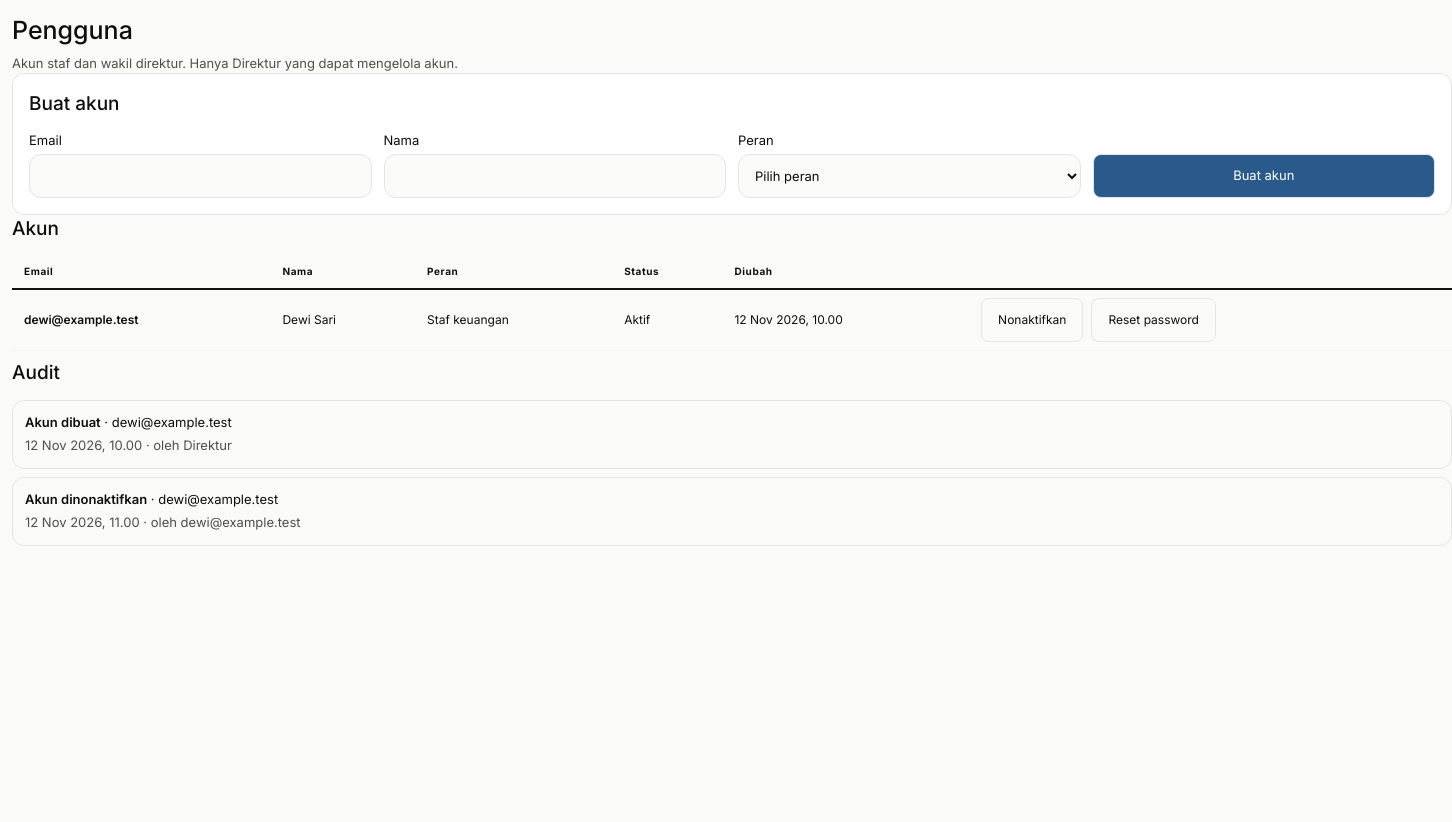
Test: user management › shows the duplicate email message as an alert and no password
This screenshot has width=1452, height=822.
Check: the column heading "dewi@example.test" is shown, box [12,289,270,350]
In the field labelled "Email": (200, 176) [29,154,372,198], type "baru@example.test"
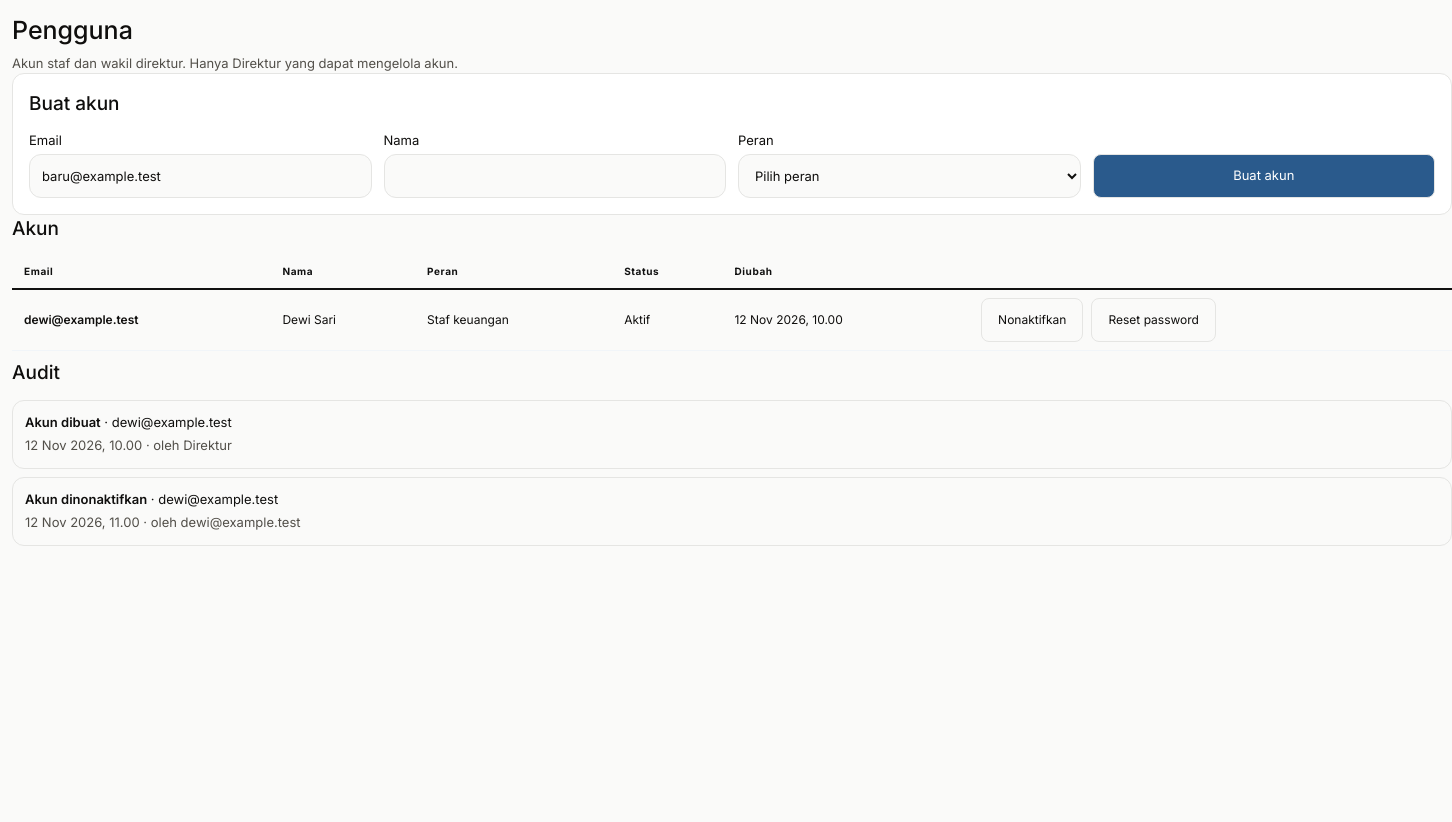
In the field labelled "Nama": (555, 176) [384,154,726,198], type "Baru"
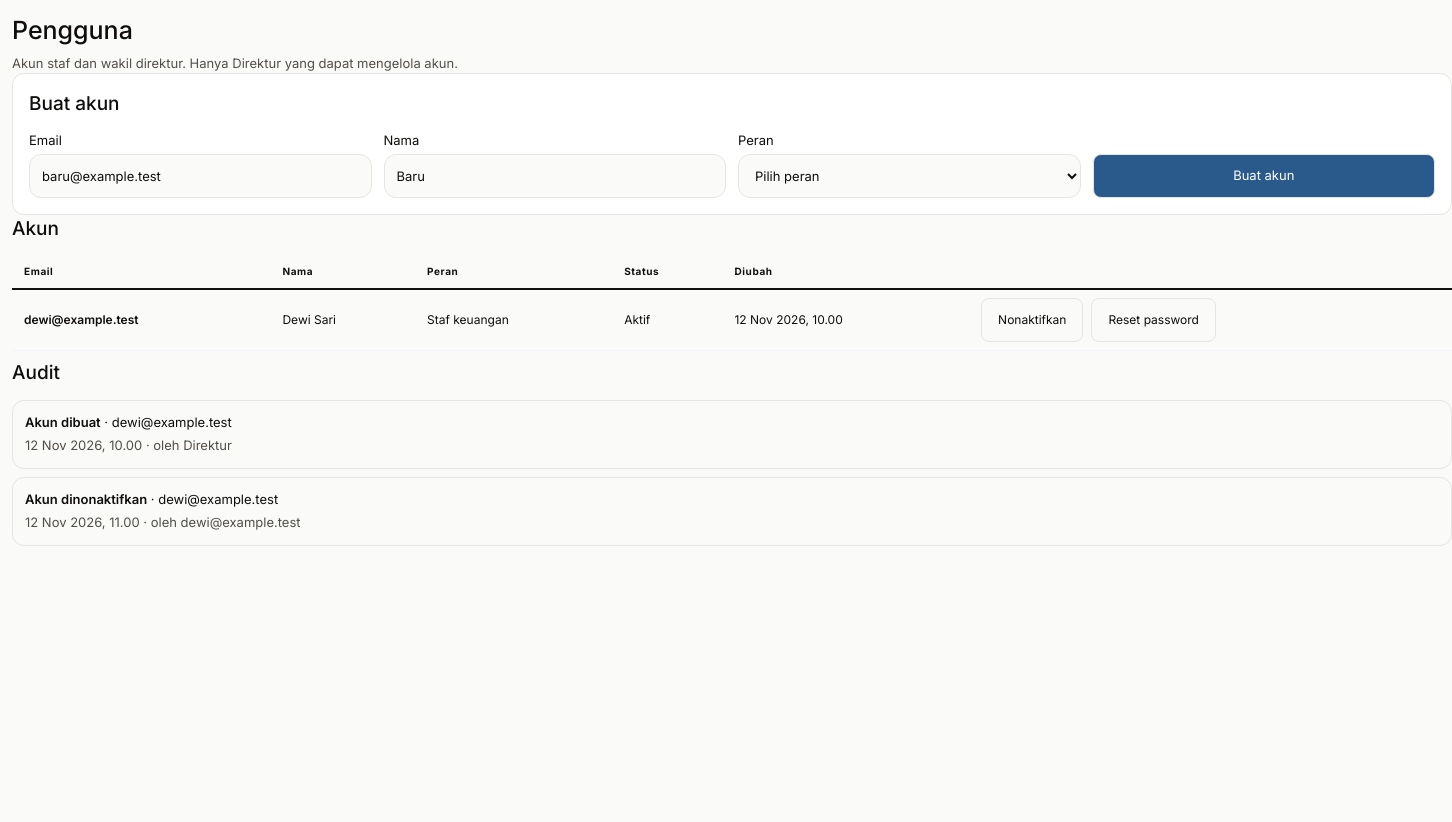
Select "Staf SDM" in the dropdown labelled "Peran": (909, 176) [738,154,1080,198]
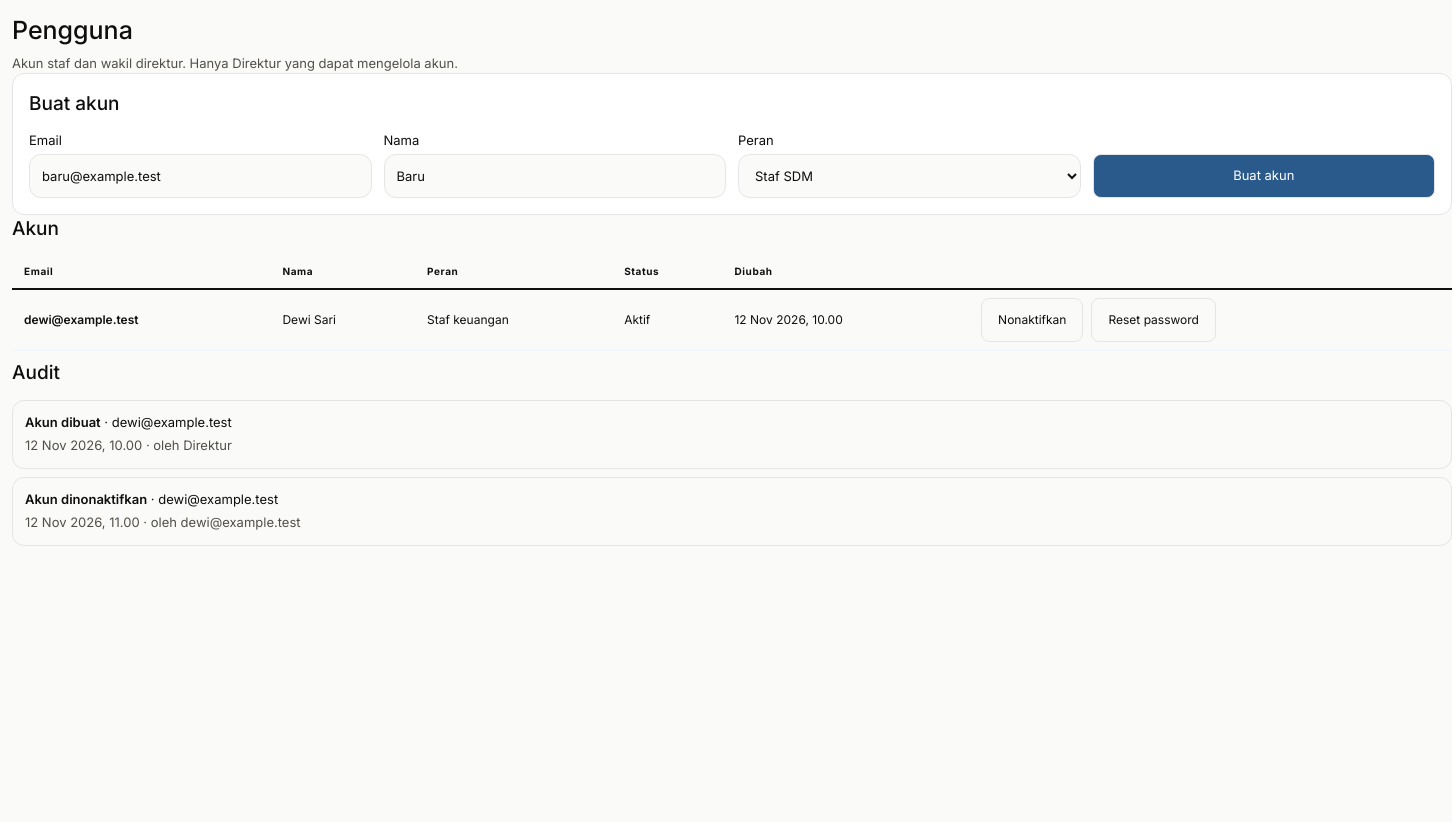
Click the button "Buat akun": click(1264, 176) [1092,154,1435,198]
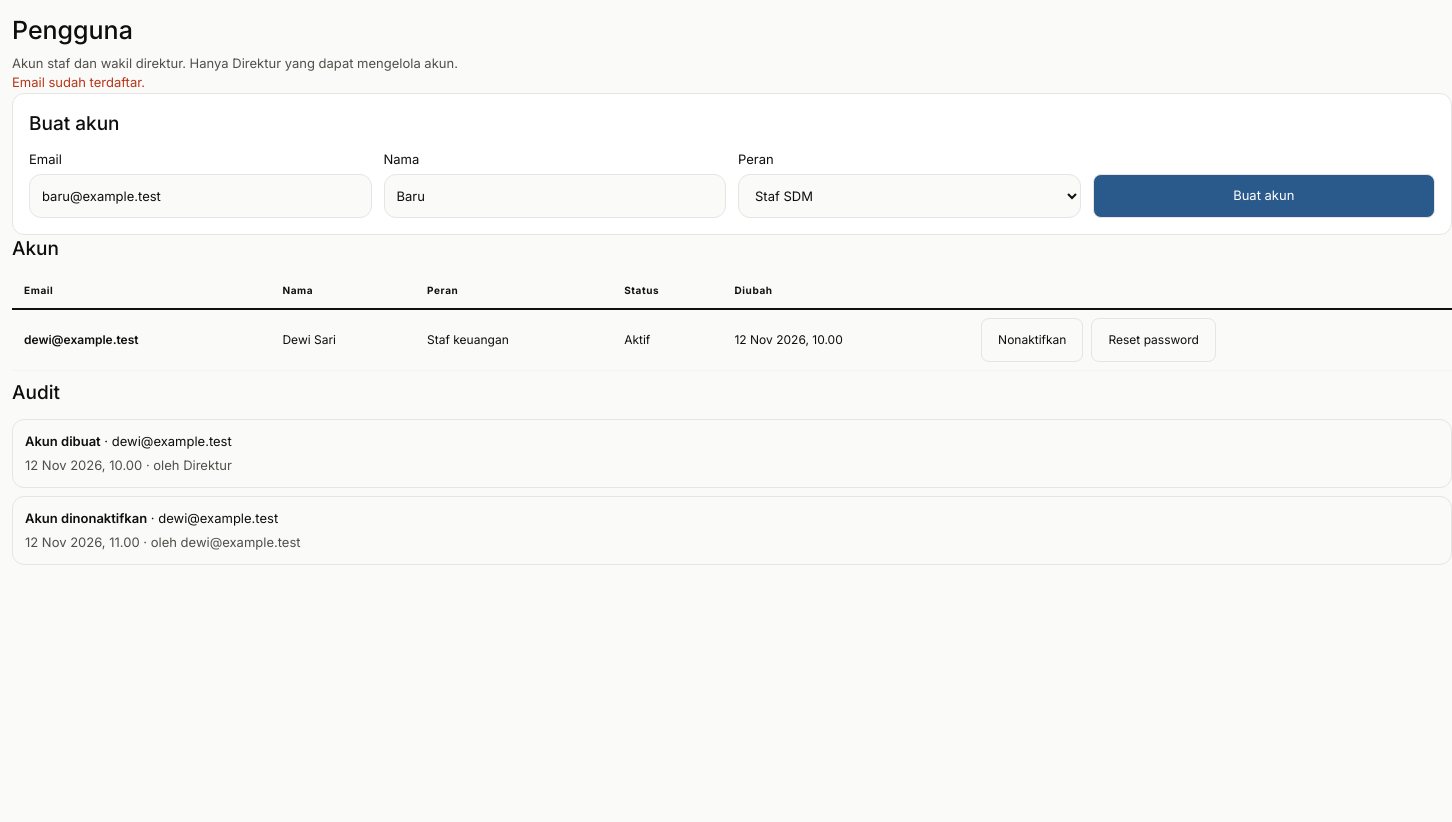
Check: the message reads "Email sudah terdaftar.", box [12,74,145,90]
